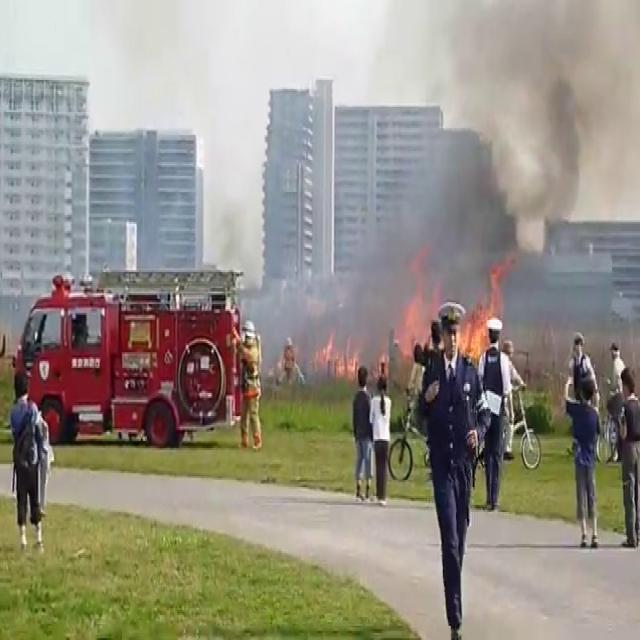Smoke: (319, 0, 640, 373)
